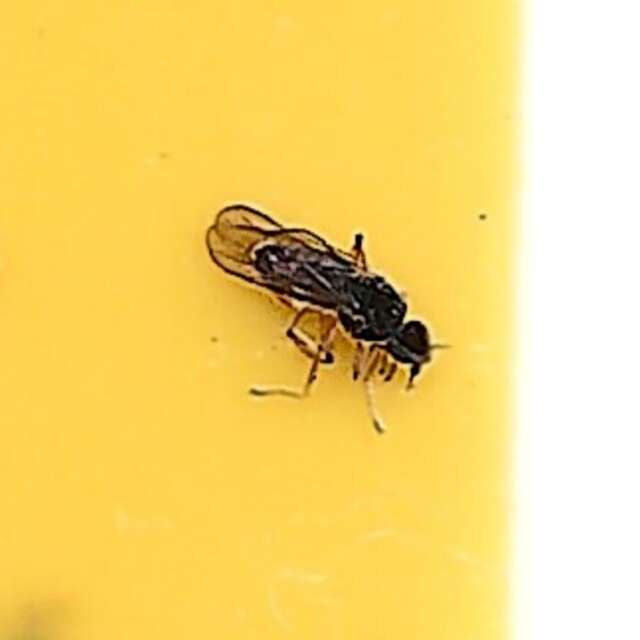Brachycera: (198, 201, 442, 439)
